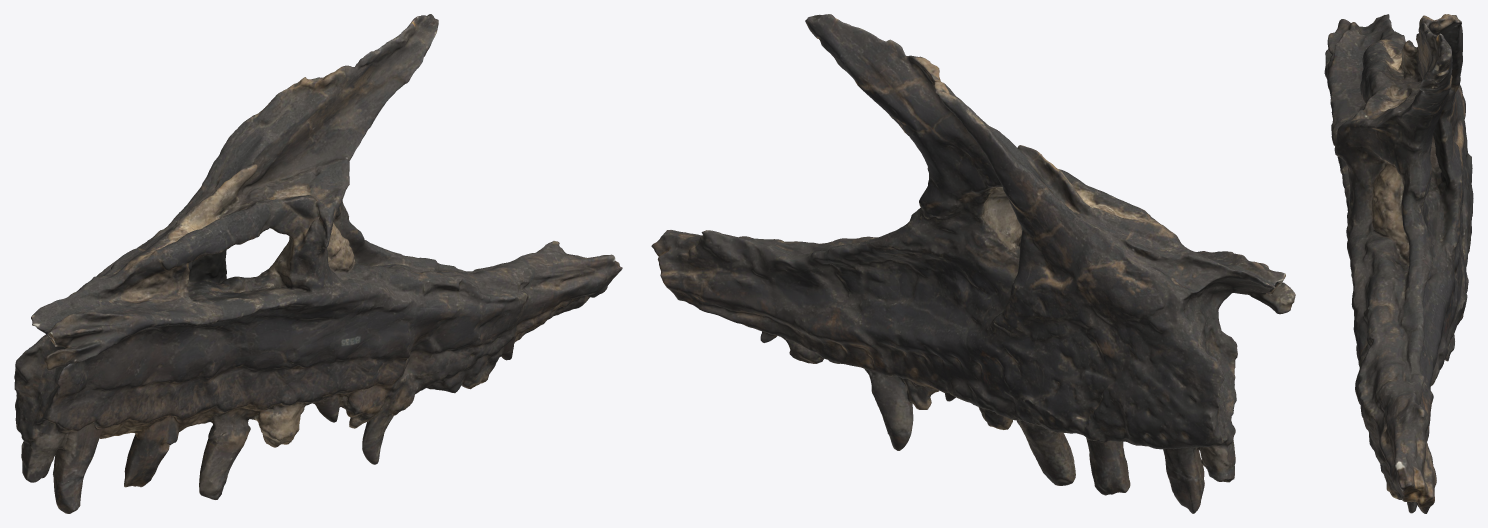
3 views of the same model, side by side, from view 1: azimuth 30°, elevation 25°; view 2: azimuth 150°, elevation 25°; view 3: azimuth 270°, elevation 25° (orthographic). The views are drawn at different scales.
Visible parts, largest first — view 1: specimen; view 2: specimen; view 3: specimen.
Boxes of the visible parts, box(x1,y1,x2,y2) form: specimen: box(14, 14, 622, 513); specimen: box(651, 14, 1295, 513); specimen: box(1324, 14, 1473, 513).
Size of the model in its own units: 0.3535 by 0.2381 by 0.0629.
Materials: 1 (1 with a texture image).
